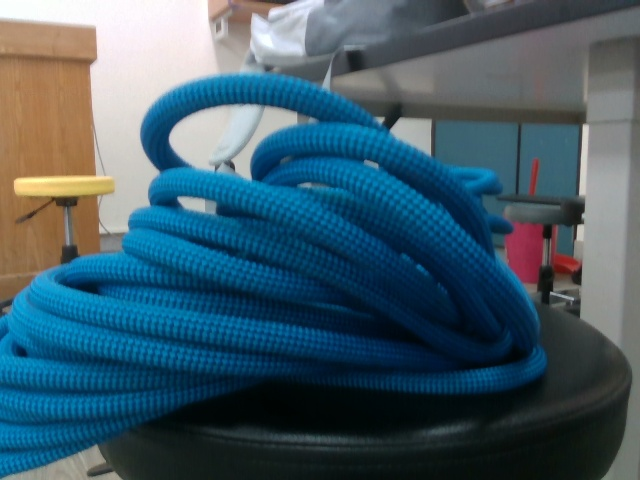rope: (2, 70, 552, 479)
